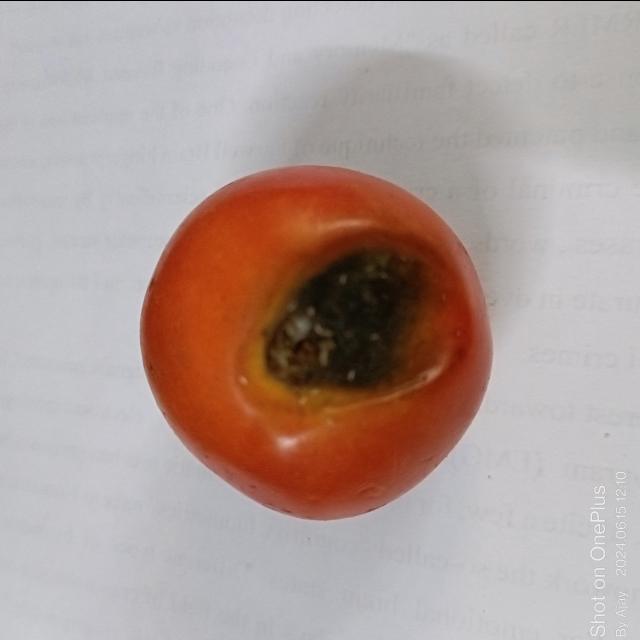Anthrocnose: (255, 229, 460, 412)
